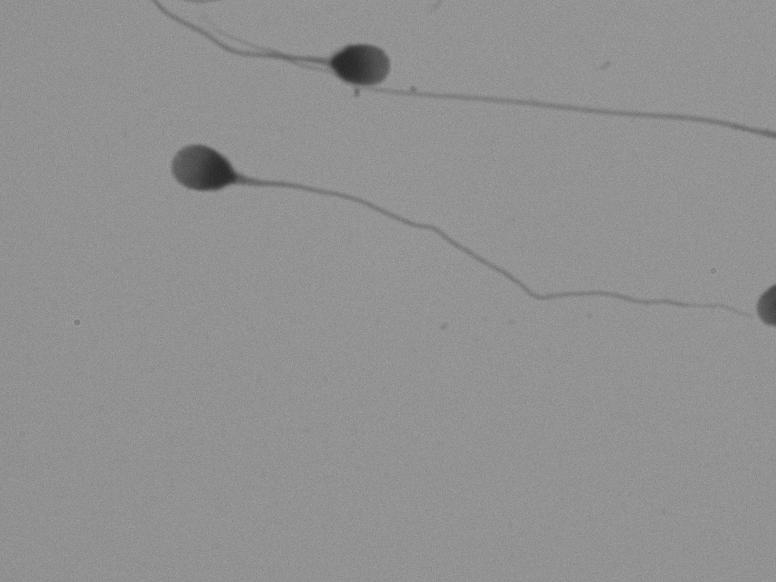Normal: (98, 138, 717, 336), (119, 9, 410, 113)
